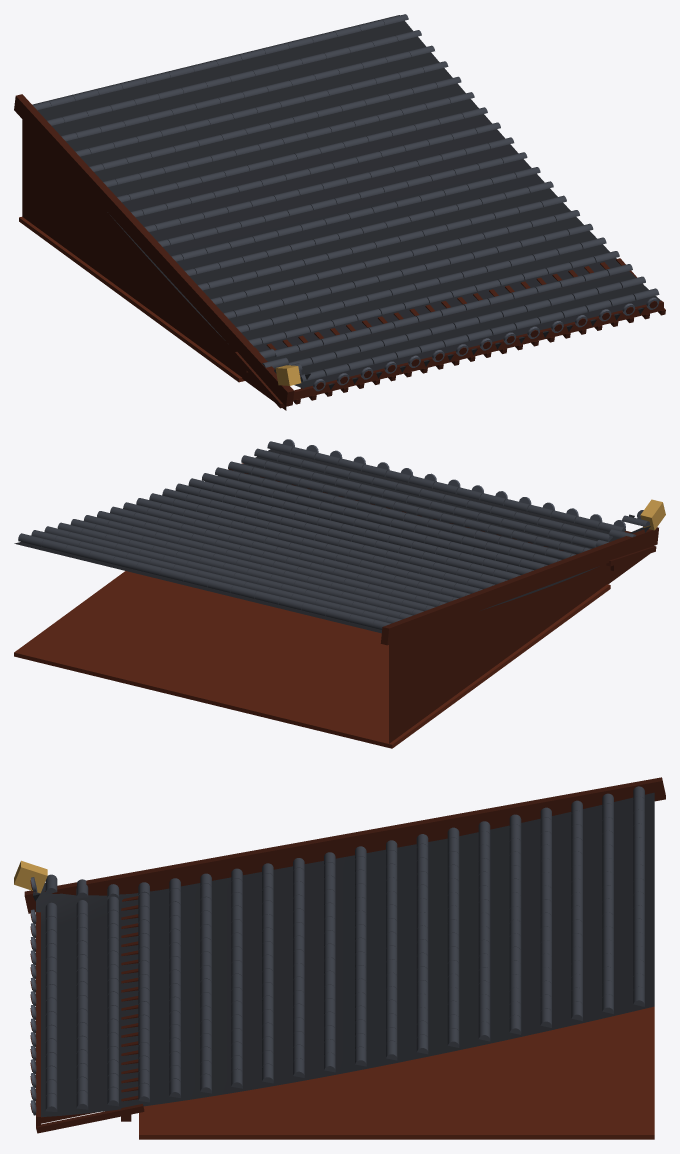
Rendered from pal1-inn-roof-front-west.glb.
The picture shows the model from 3 angles, top to bottom: view 1: azimuth 30°, elevation 25°; view 2: azimuth 150°, elevation 25°; view 3: azimuth 270°, elevation 25°; orthographic projection. The views are drawn at different scales.
Visible parts, largest first — view 1: Pal1RoofFront; view 2: Pal1RoofFront; view 3: Pal1RoofFront.
Boxes of the visible parts, left/top/right/bottom form: Pal1RoofFront: left=14, top=14, right=665, bottom=410; Pal1RoofFront: left=14, top=439, right=665, bottom=748; Pal1RoofFront: left=14, top=777, right=665, bottom=1139.
Size of what is drawn, in the model's own units: 4.05 by 1.24 by 5.06.
